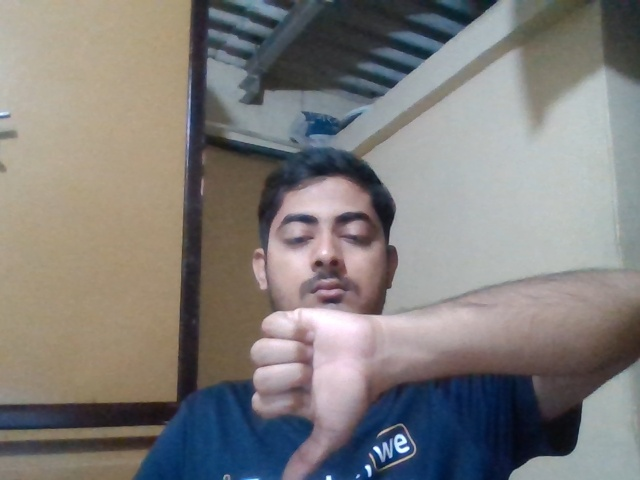ThumbsDown: (250, 308, 373, 480)
